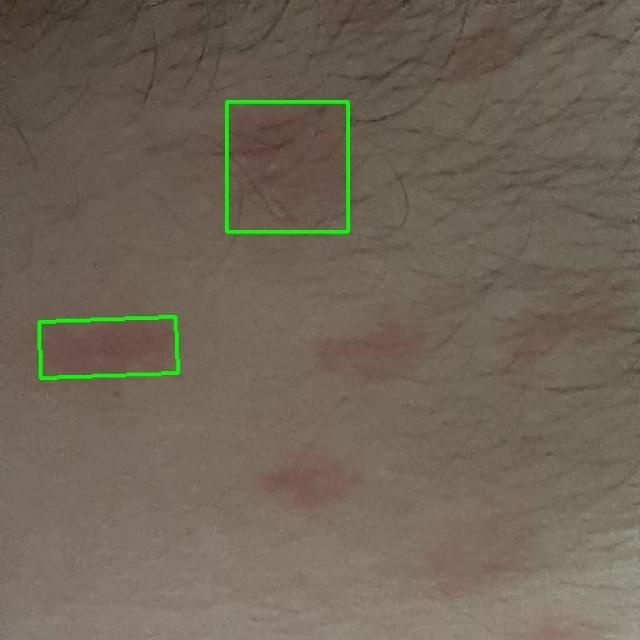Tinea Corporis: (226, 101, 348, 231), (39, 317, 178, 378)
